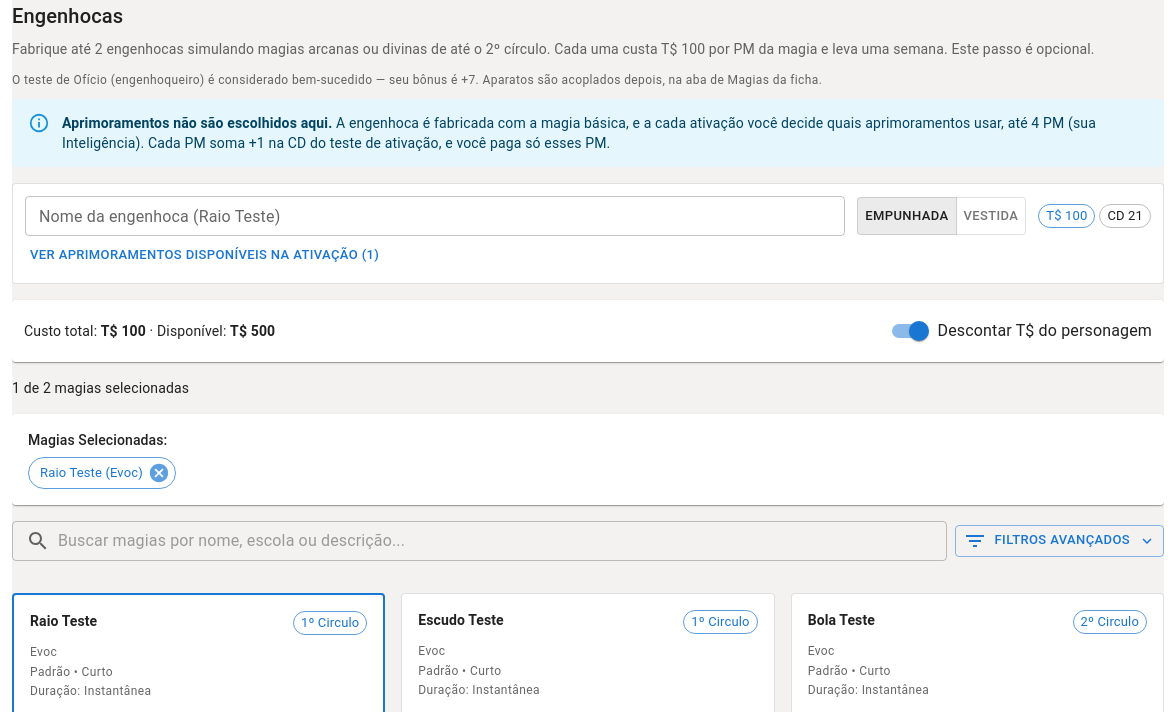
EngenhocaFabricationStep › explica que aprimoramentos ficam para a ativação e lista os da magia
Check: the message shows "até 4 PM (sua Inteligência)", box [12,99,1164,167]
Check: the text "aumenta o dano em +1d6." is not shown
Click the button "Ver aprimoramentos disponíveis na ativação (1)".
click(205, 255)  # box [25,240,384,271]
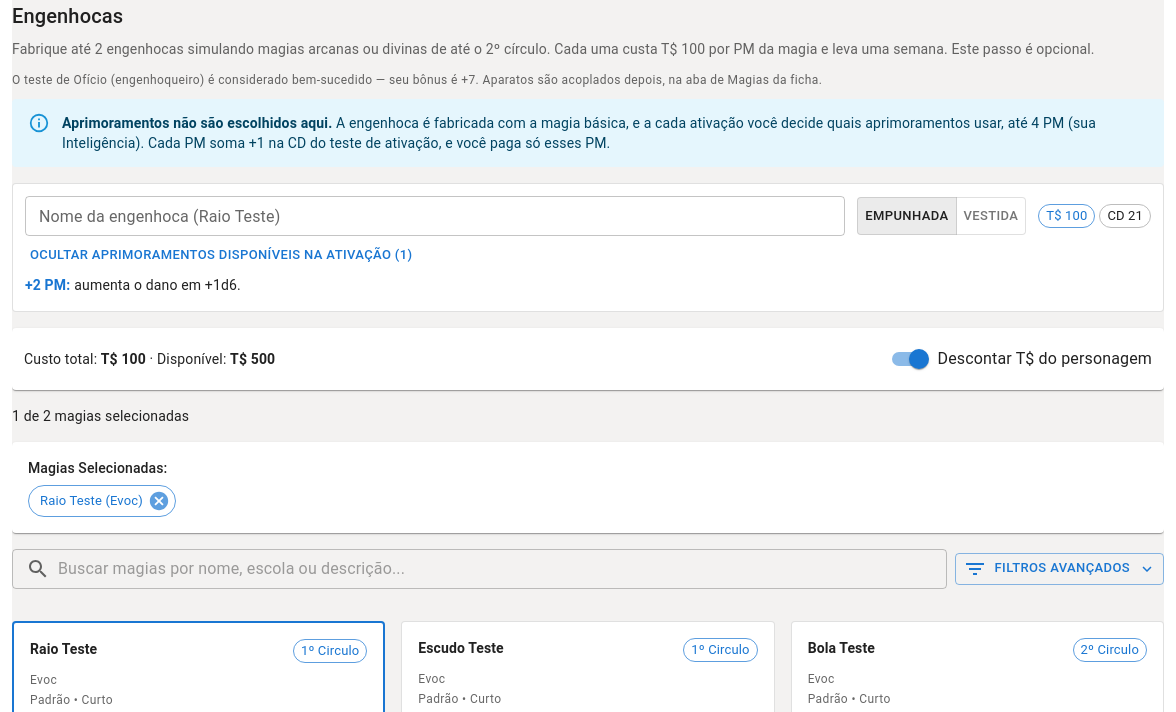
Check: the text "aumenta o dano em +1d6." is shown, box [74,277,241,293]
